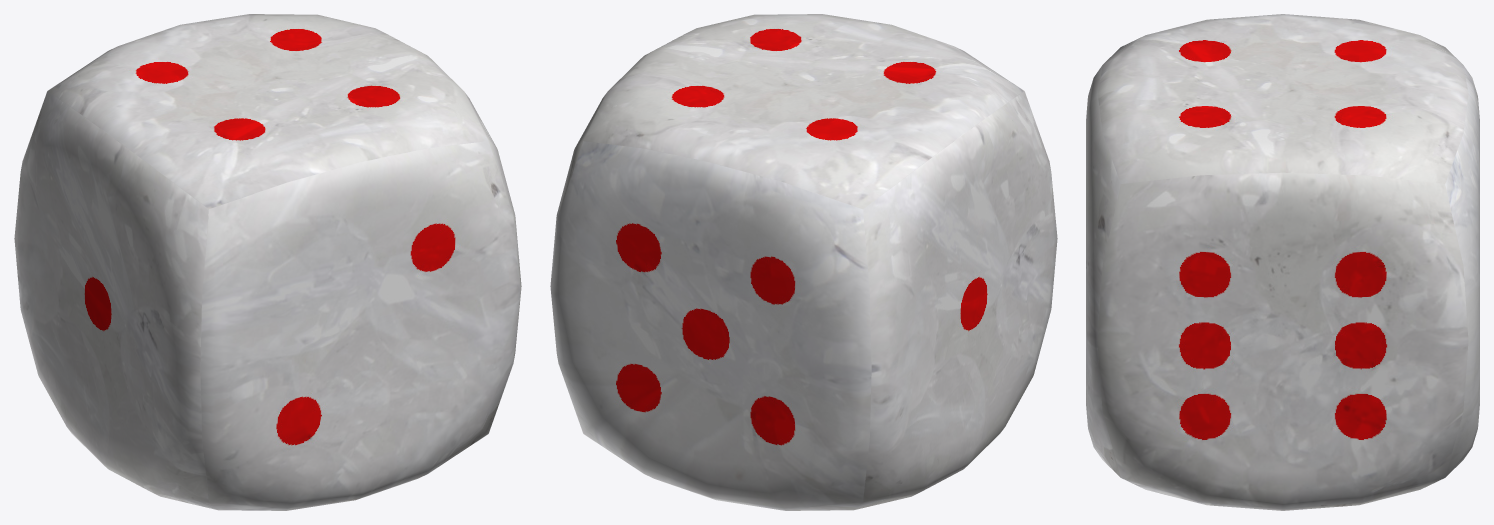
File: dice.obj
3 renders of one model, left to right at view 1: azimuth 30°, elevation 25°; view 2: azimuth 150°, elevation 25°; view 3: azimuth 270°, elevation 25°, orthographic.
Parts seen in each view (by area): view 1: low001; view 2: low001; view 3: low001.
Part boxes in pixels (x1,y1,x2,y2): low001: (14,14,521,510); low001: (550,14,1057,510); low001: (1086,14,1479,510).
Bounding box in the file's own units: 50 × 50 × 50.
